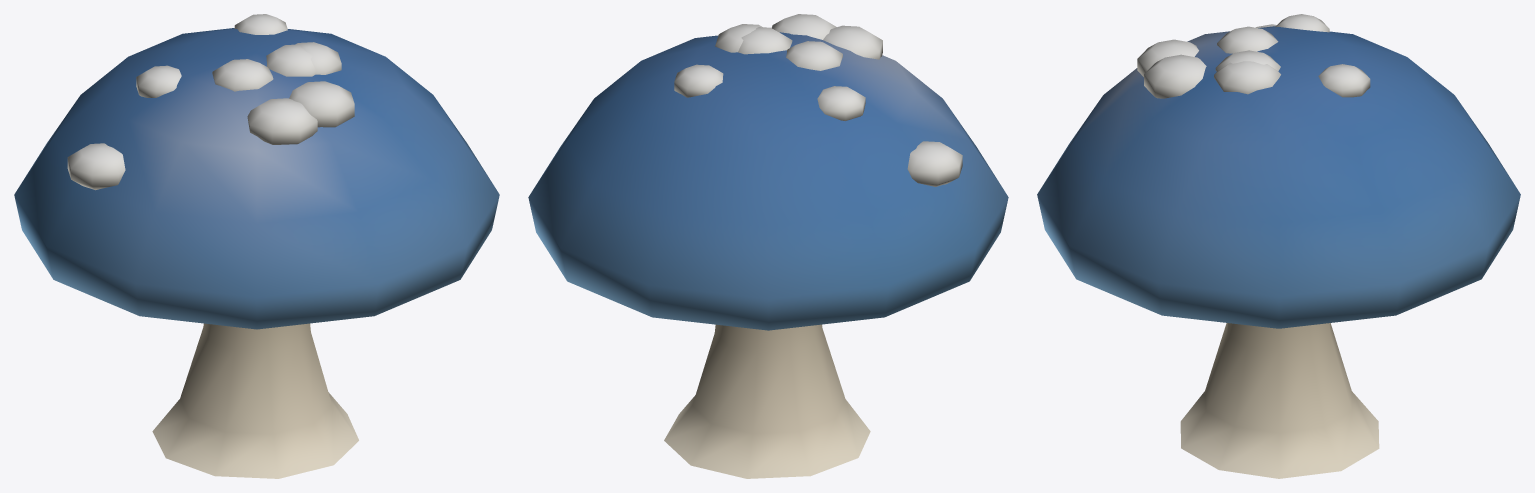
File: food_mush_c.fbx
3 renders of one model, left to right at view 1: azimuth 30°, elevation 25°; view 2: azimuth 150°, elevation 25°; view 3: azimuth 270°, elevation 25°, orthographic.
Visible parts, largest first — view 1: food_mush_c; view 2: food_mush_c; view 3: food_mush_c.
Part boxes in pixels (bbox=[...]): food_mush_c: bbox=[14, 14, 499, 478]; food_mush_c: bbox=[528, 14, 1008, 478]; food_mush_c: bbox=[1037, 14, 1520, 478].
Bounding box in the file's own units: 124 × 110 × 124.
